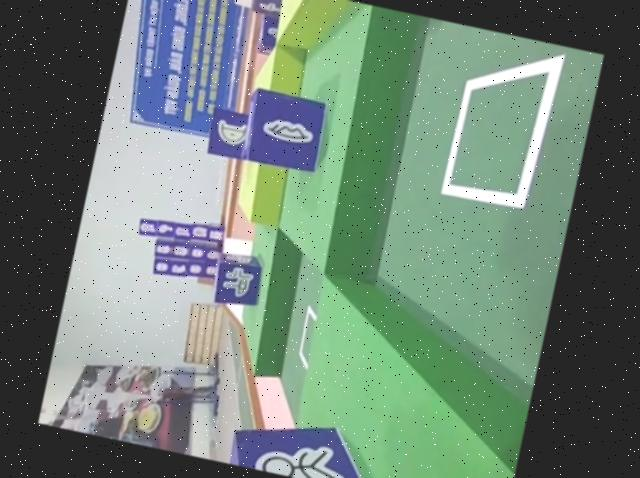R2 Real Blue: (225, 409, 394, 478), (235, 86, 330, 177), (208, 248, 267, 311), (206, 105, 259, 161), (247, 0, 286, 16)
